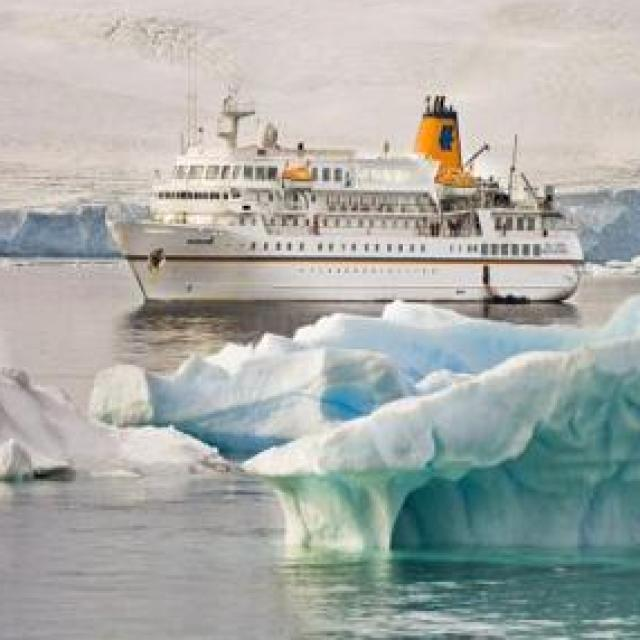passenger ship: (116, 93, 585, 300)
